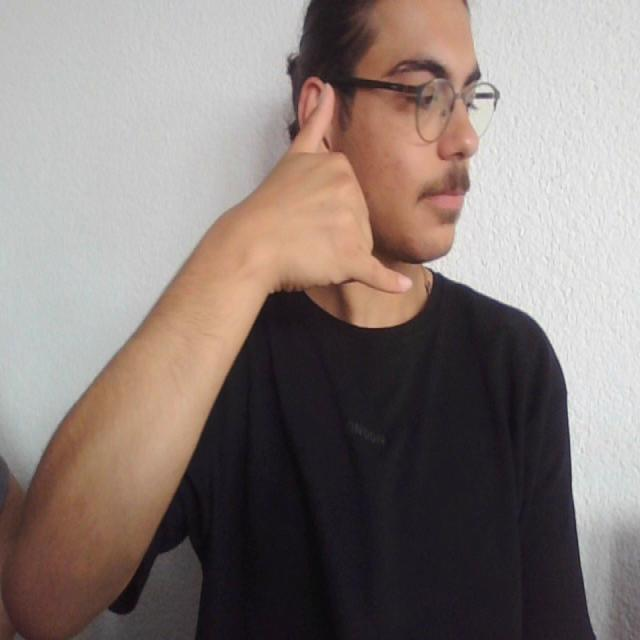Telefon: (271, 82, 421, 298)
